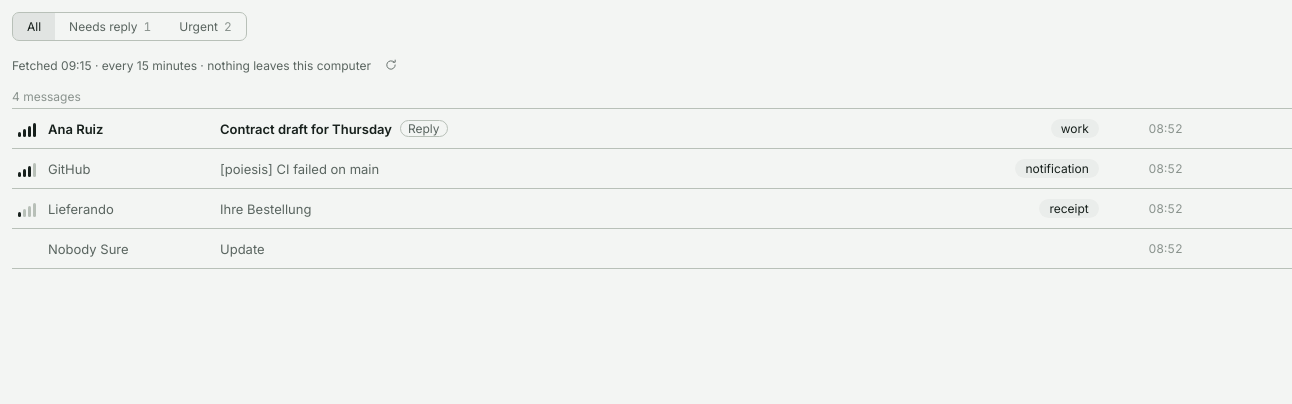
Test: the kind menu › offers the person's kinds, unsure and no kind, and a pick is sent as a retag
The width and height of the screenshot is (1292, 404).
Step 1. Click the button with class "mail-kind" showing "work" → [1075, 128], box [1051,119,1099,138]
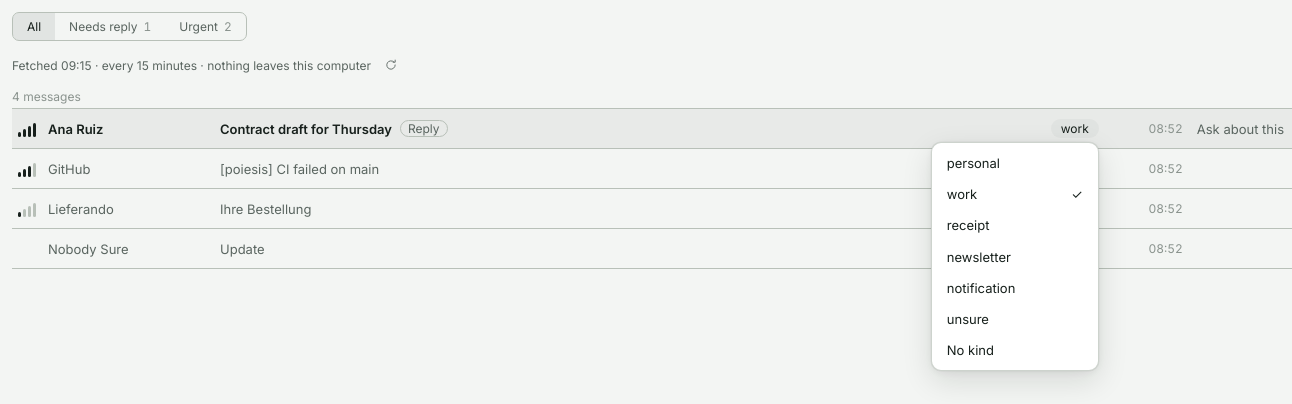
Now the menu item "work ✓" is shown, box [937,179,1093,209]
Step 2. Click the menu item "personal" → [1015, 163], box [937,148,1093,178]
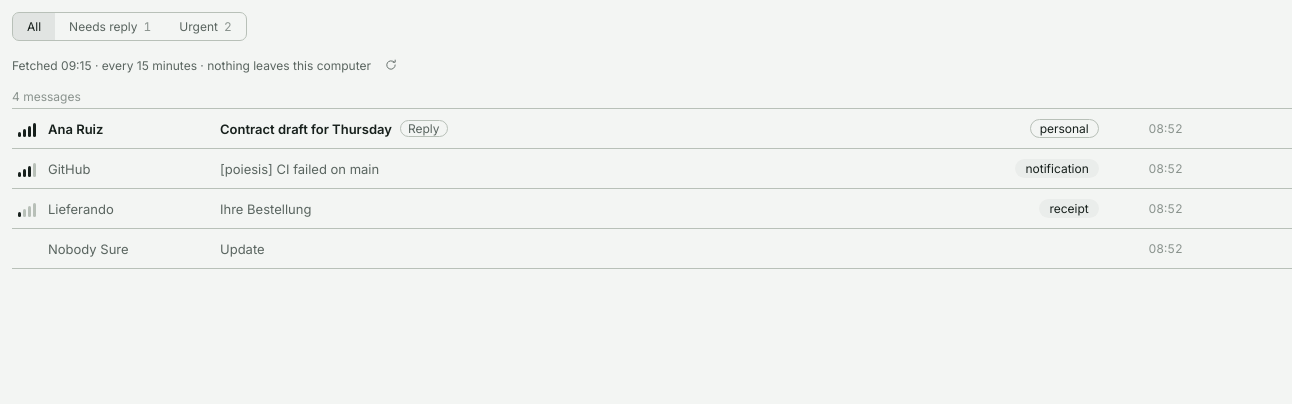
Now the menu is gone
Now the button with class "mail-kind" reads "personal", box [1030,119,1099,138]
